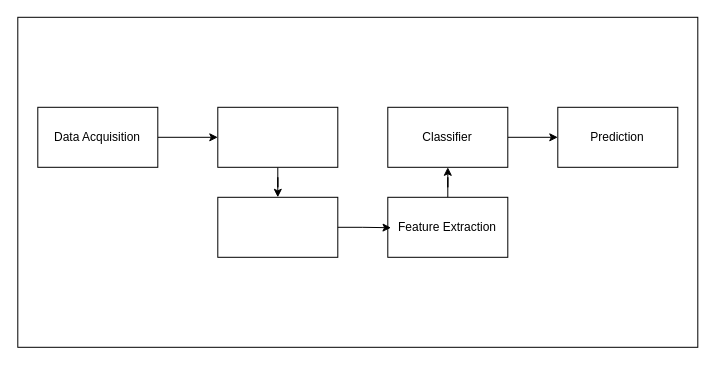
Some shapes in this 715 by 365 pixel diagram are drawn without their labels. Here are the shapes that lost their labels. From the top down, the centre of each, then its label:
(277,136): Dataset Builder
(277,226): Preprocessing
